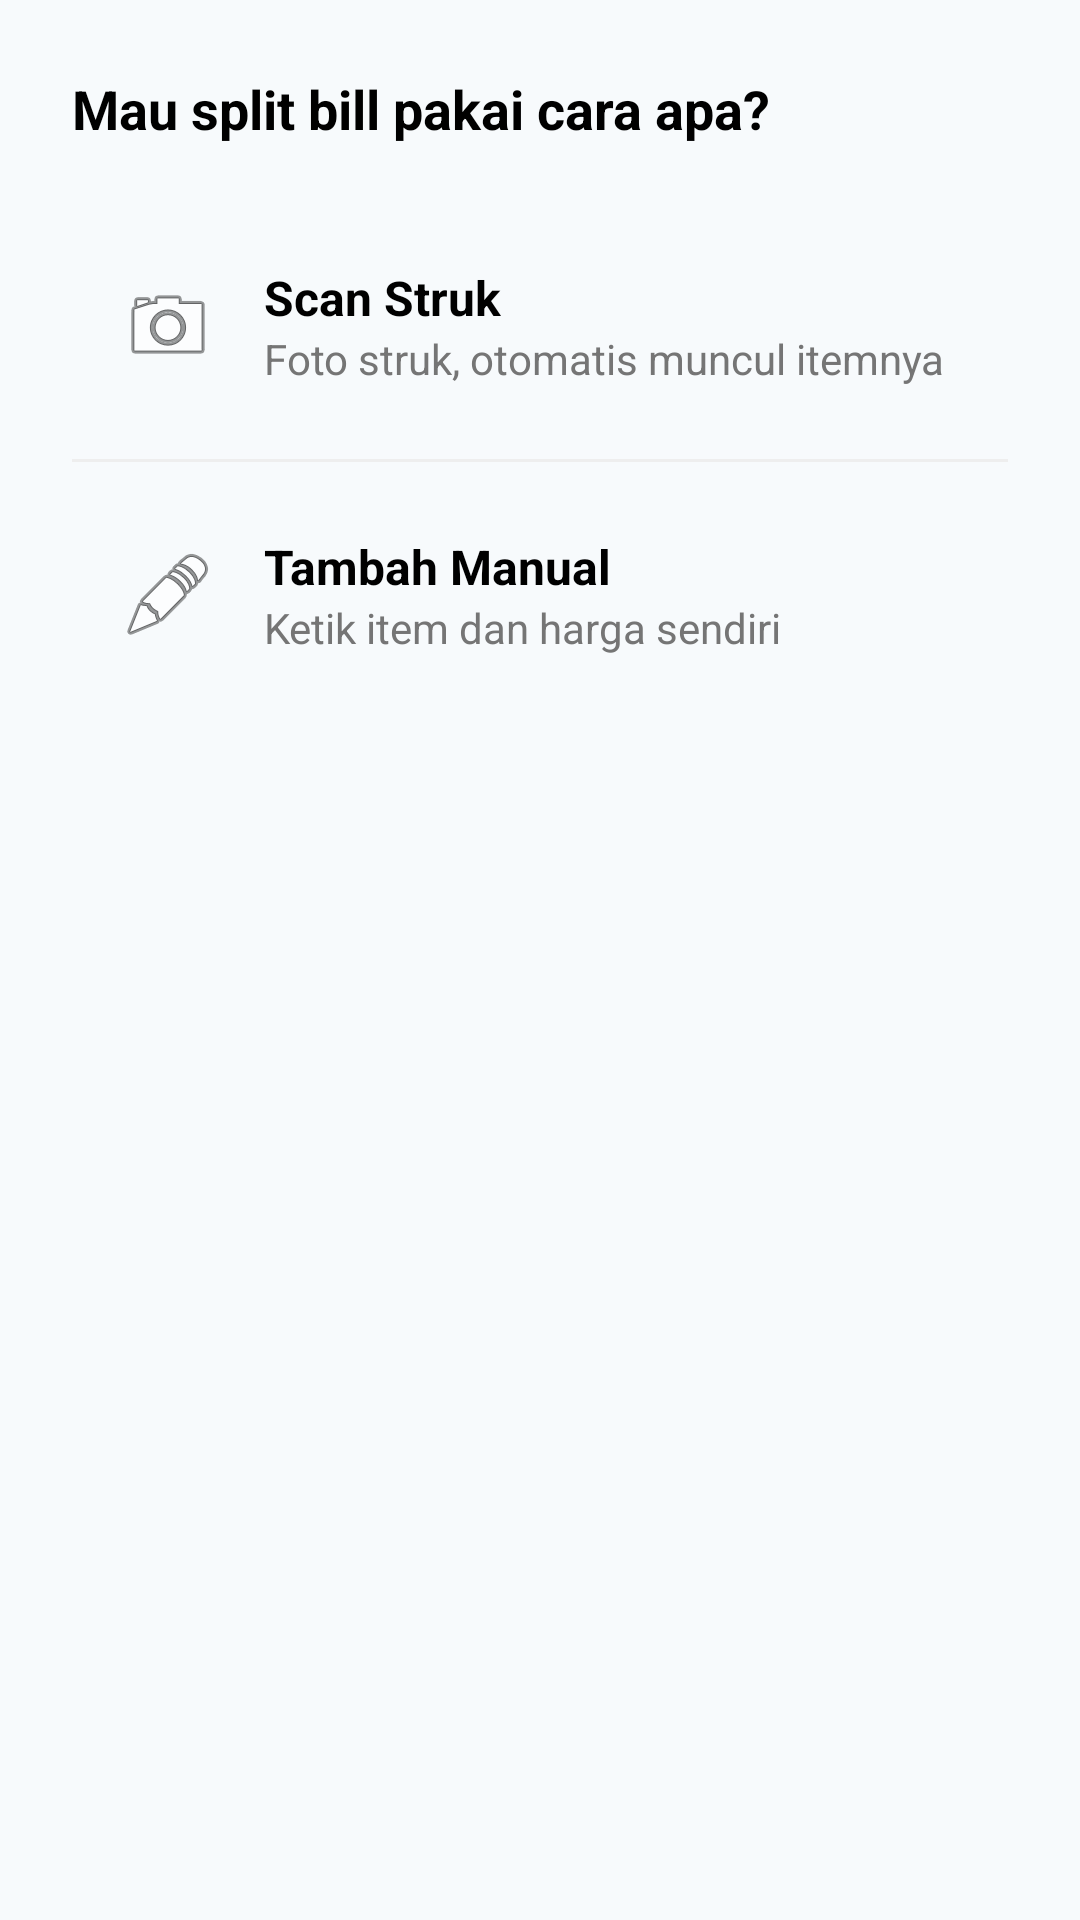

Where to tap for icons on this 1080 × 1920 app screen, as [x,y]:
Camera: [168,324]
Edit: [167,594]
